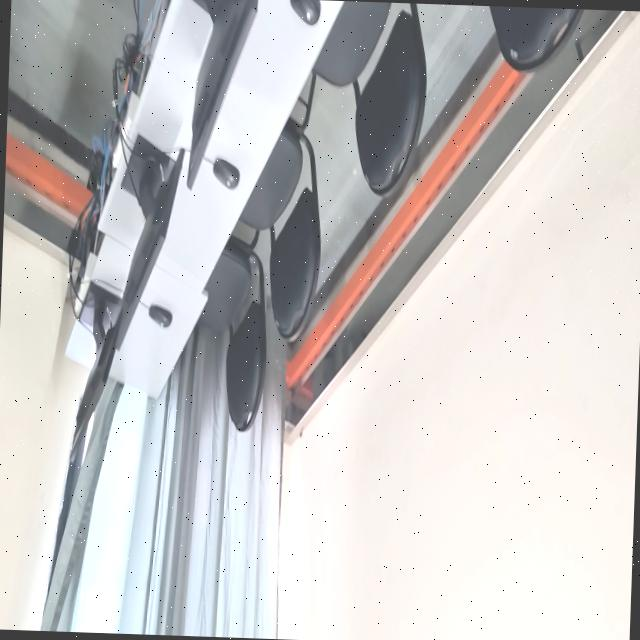Chair: (312, 1, 425, 196), (239, 72, 321, 340), (198, 231, 266, 432), (489, 6, 584, 72)
Monitor: (113, 150, 184, 349), (189, 0, 258, 181), (70, 324, 118, 463)
Mouse: (213, 158, 239, 190), (290, 0, 320, 25), (149, 305, 172, 327)
